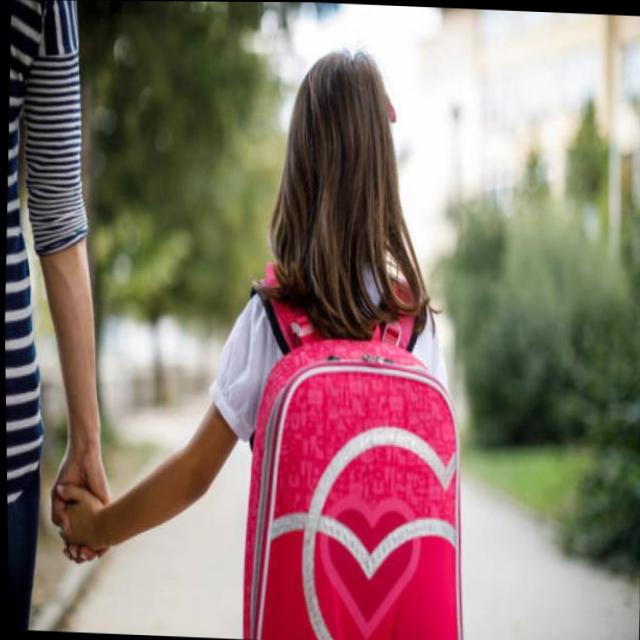no helmet: (241, 18, 442, 360)
